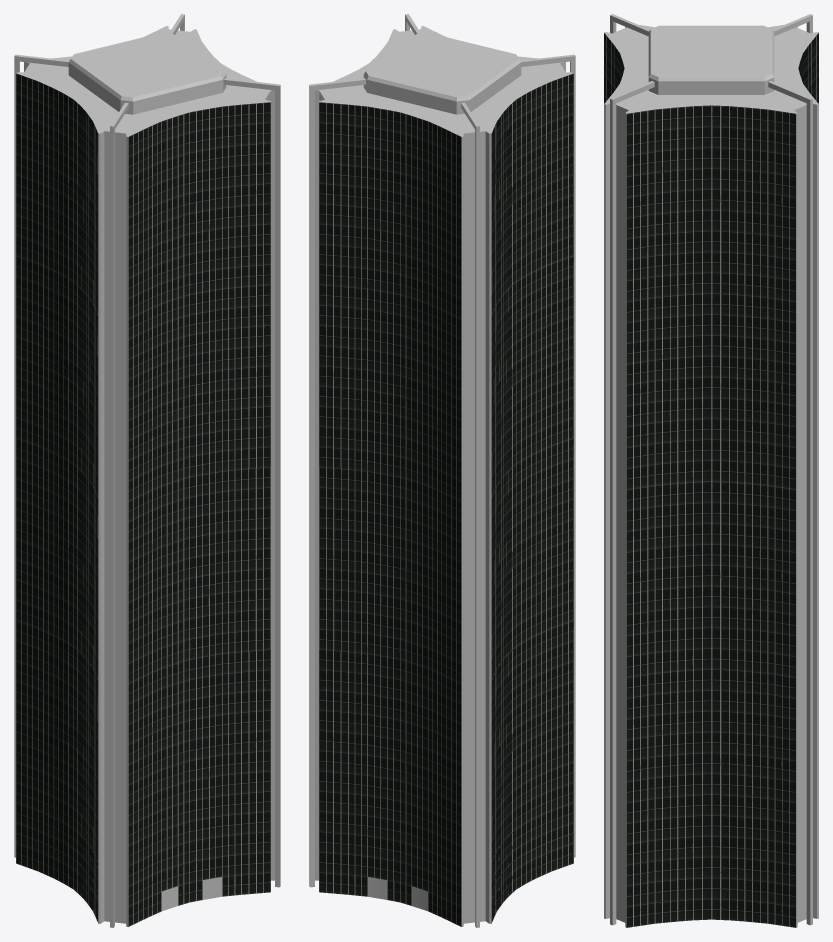
The picture shows the model from 3 angles, left to right: view 1: azimuth 30°, elevation 25°; view 2: azimuth 150°, elevation 25°; view 3: azimuth 270°, elevation 25°; orthographic projection. The views are drawn at different scales.
Parts seen in each view (by area): view 1: EC-037; view 2: EC-037; view 3: EC-037.
Boxes of the visible parts, x1,y1,x2,y2 form: EC-037: [14, 14, 280, 927]; EC-037: [309, 14, 575, 927]; EC-037: [604, 14, 818, 927].
Size of what is drawn, in the model's own units: 27.98 by 119 by 27.98.
